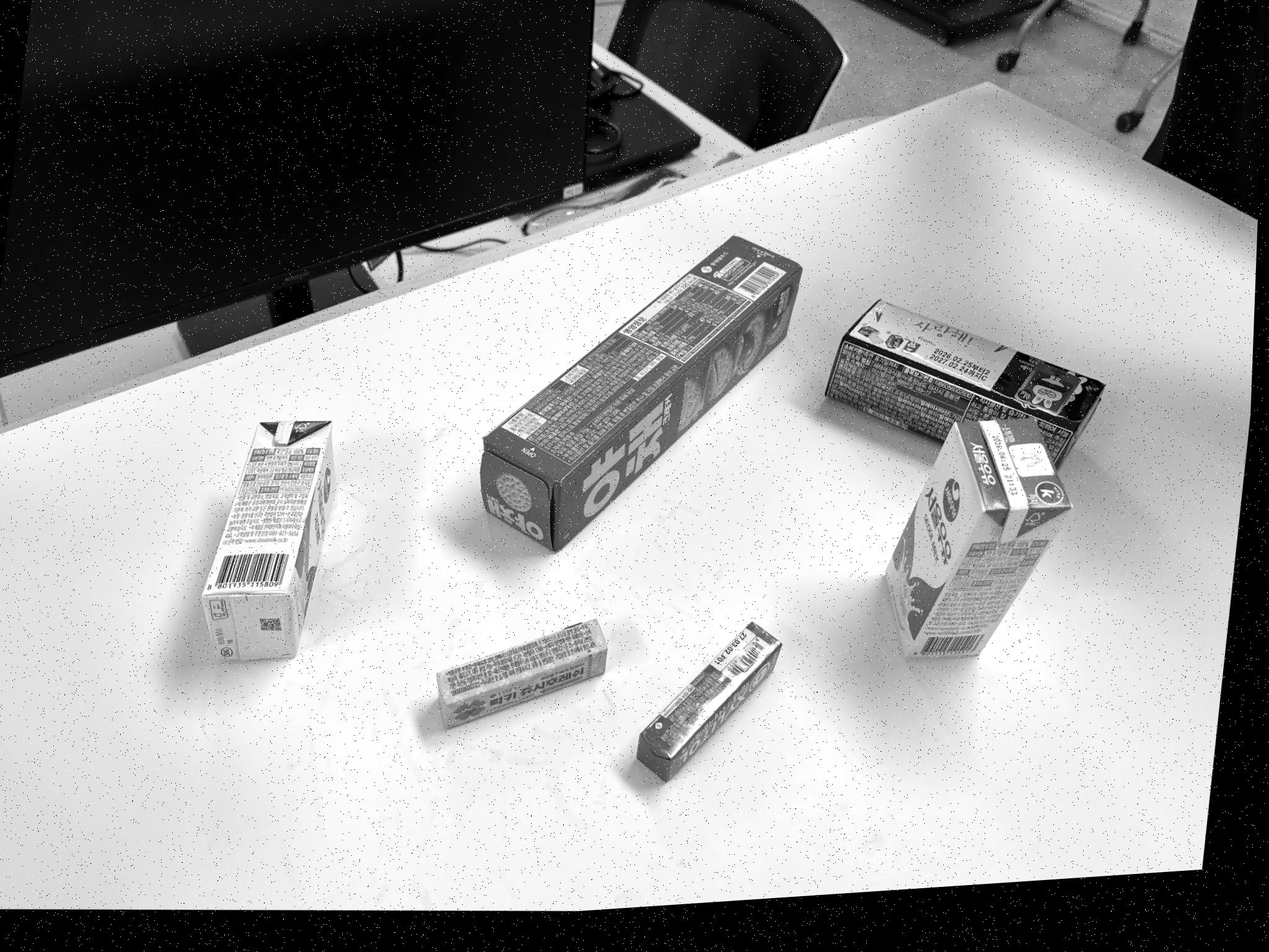cracker_ace: (826, 300, 1104, 466)
cracker_vege: (481, 237, 801, 550)
gum_green: (637, 624, 781, 781)
gum_yellow: (437, 620, 606, 727)
milk_blue: (202, 420, 335, 660)
milk_green: (887, 419, 1071, 657)
